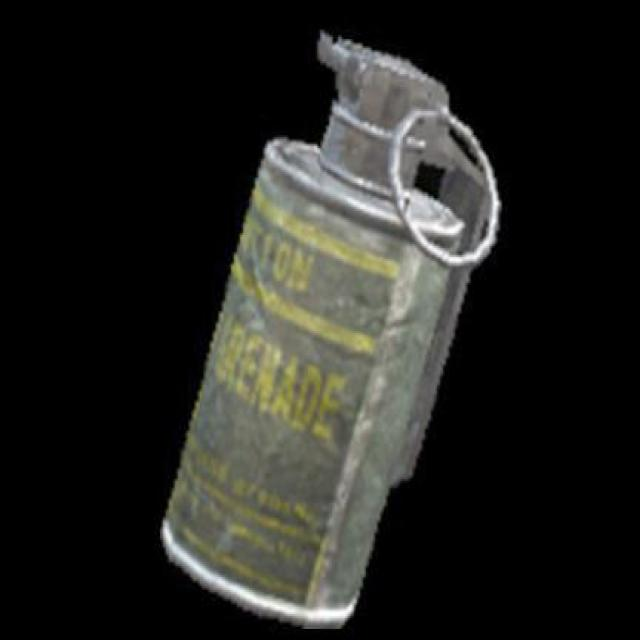grenade: (163, 34, 502, 628)
